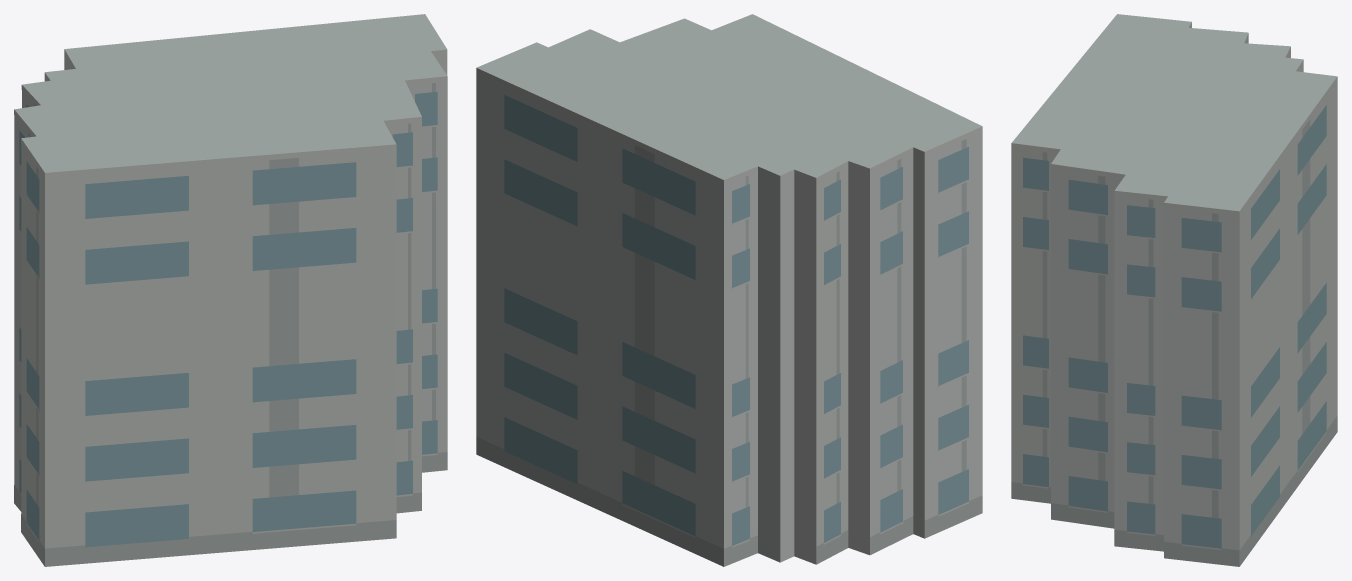
The model's file is survey-upis-32872087.glb.
3 views of the same model, side by side, from view 1: azimuth 30°, elevation 25°; view 2: azimuth 150°, elevation 25°; view 3: azimuth 270°, elevation 25° (orthographic). The views are drawn at different scales.
Parts seen in each view (by area): view 1: survey-upis-32872087.tmp; view 2: survey-upis-32872087.tmp; view 3: survey-upis-32872087.tmp.
Boxes of the visible parts, <box> form: survey-upis-32872087.tmp: <box>14,14,447,566</box>; survey-upis-32872087.tmp: <box>476,14,982,566</box>; survey-upis-32872087.tmp: <box>1011,14,1337,566</box>.
Bounding box in the file's own units: 20.6 × 17.3 × 14.39.
